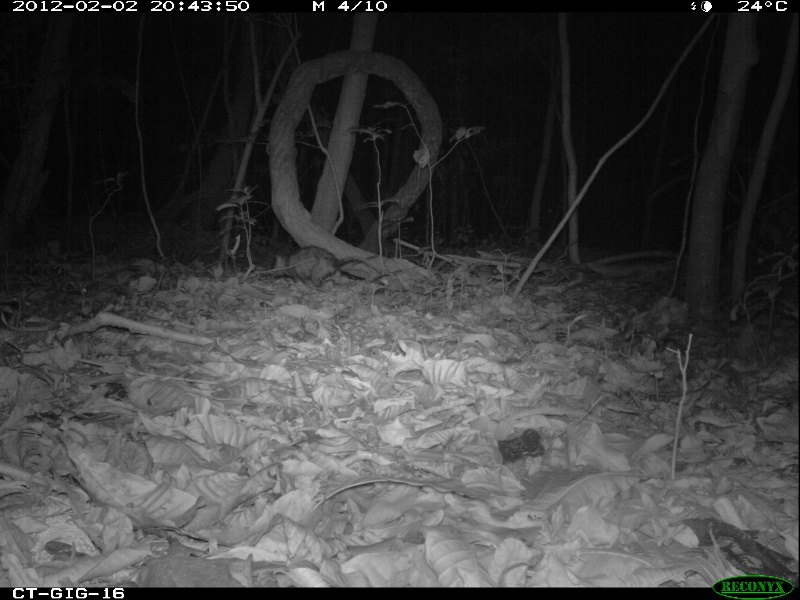opossum: (264, 248, 387, 294)
